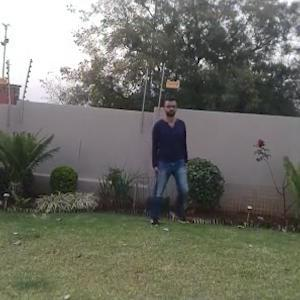follow: (142, 96, 187, 235)
